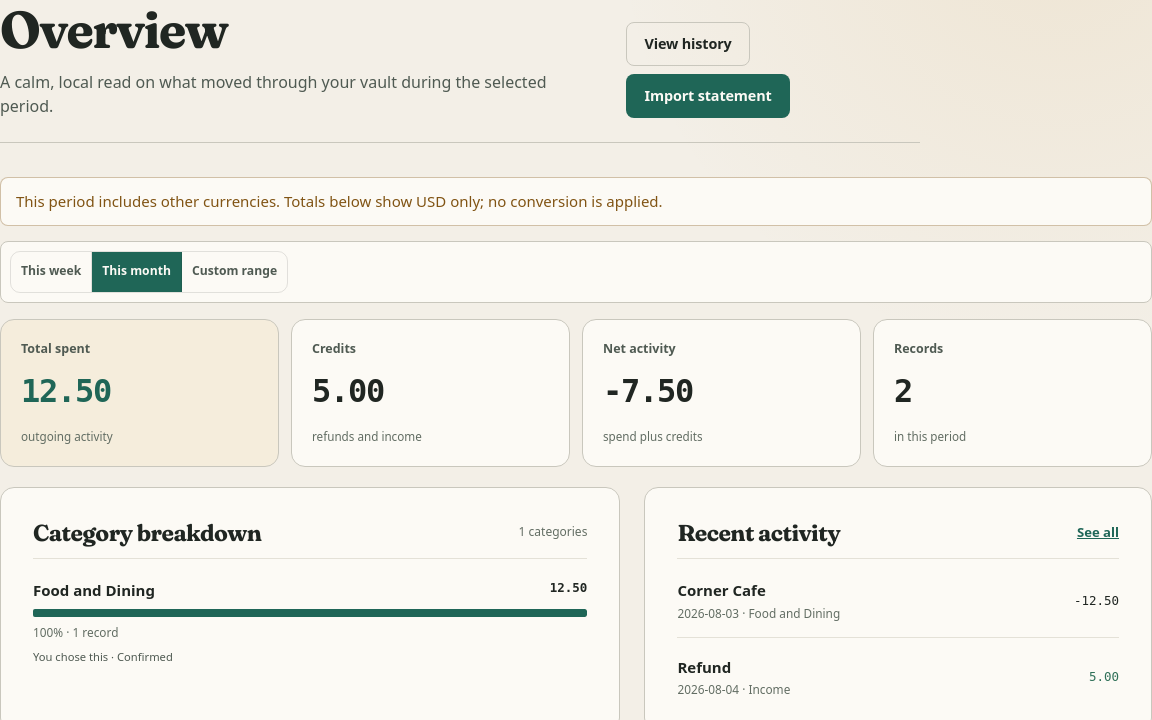
Scenario: US3 web dashboard › switches to a custom range and exposes an accessible empty state
Click the button "Custom range" at (234, 272), box [182, 252, 287, 292]
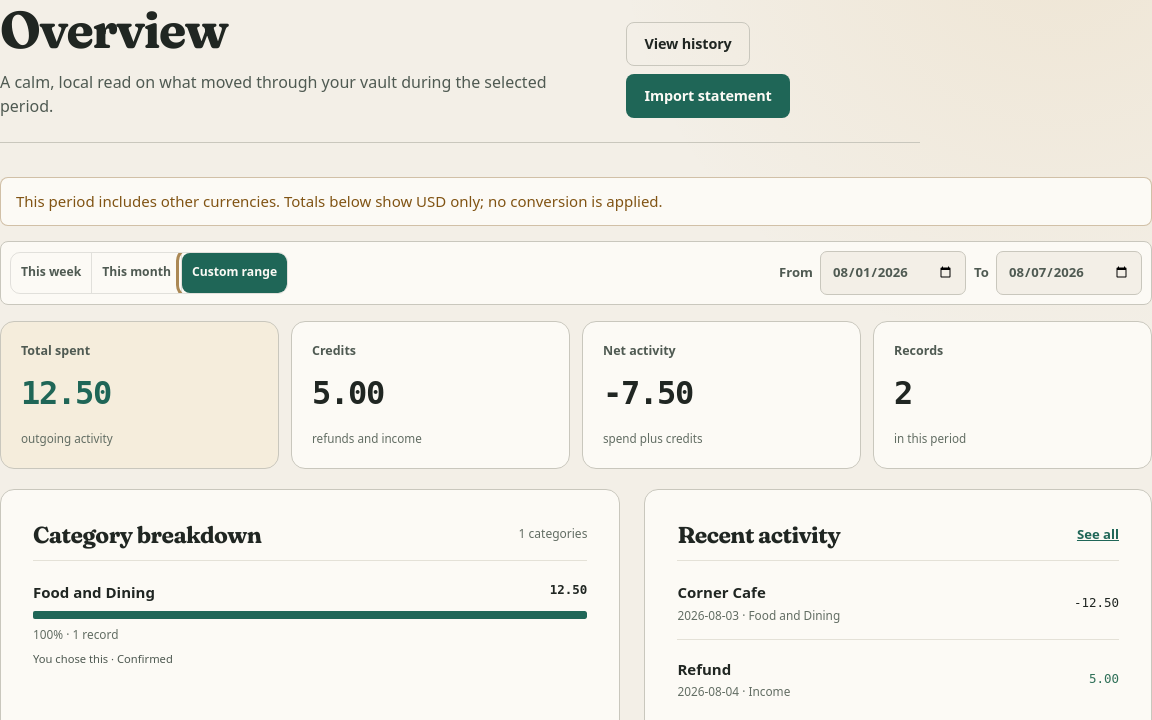
Type "2026-01-01" into the date field labelled "From" at (893, 273), box [820, 251, 966, 295]
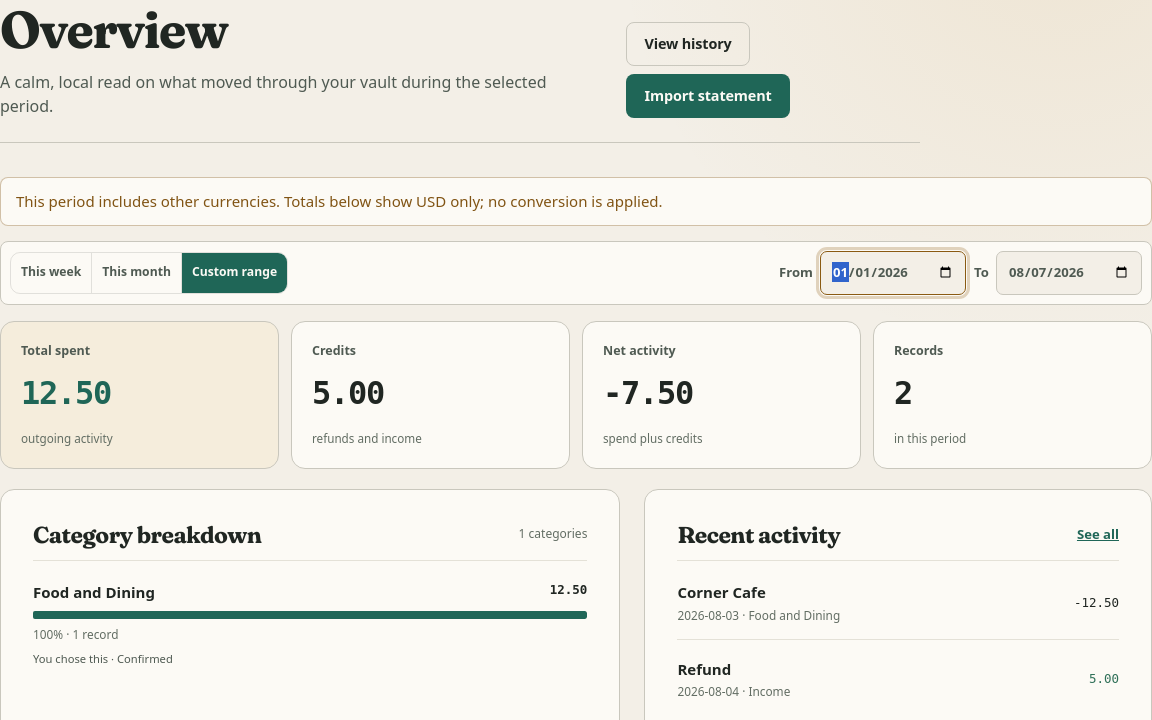
Type "2026-01-31" into the date field labelled "To" at (1069, 273), box [996, 251, 1142, 295]
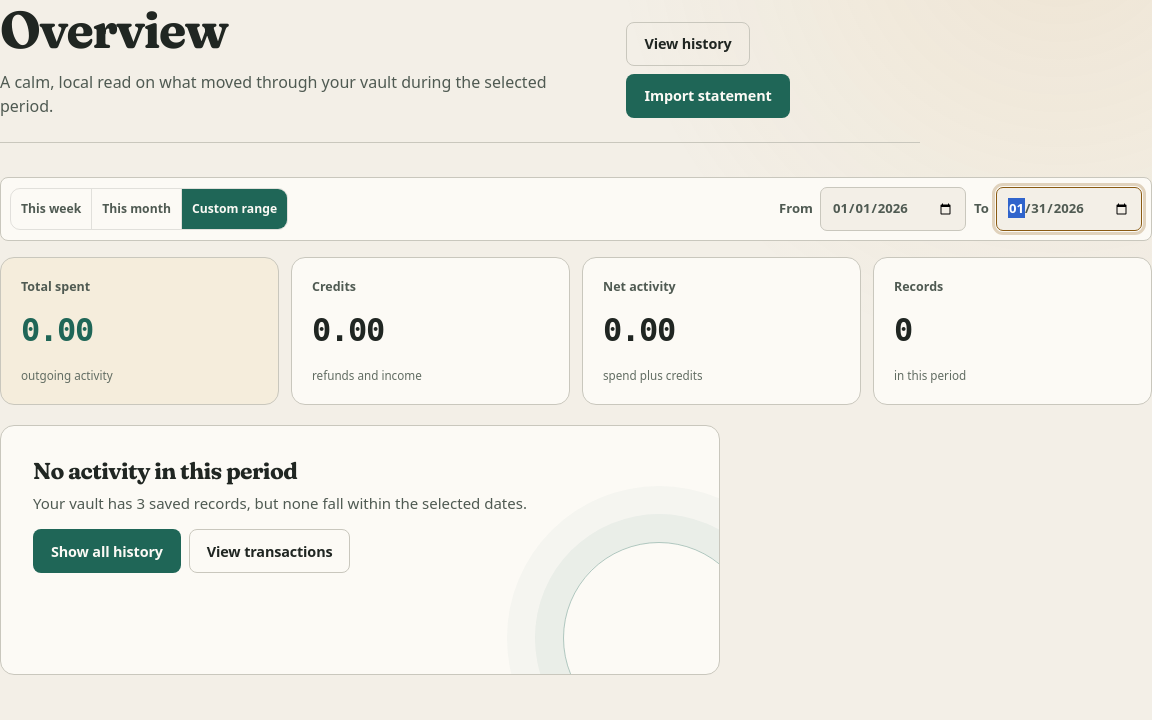
Expected: the heading "No activity in this period" is shown, [33, 456, 297, 485]
Expected: the message shows "Your vault has 3 saved records", [0, 425, 720, 675]
Expected: the button "Show all history" is shown
Click the button "Show all history" at (107, 551), box [33, 529, 181, 573]
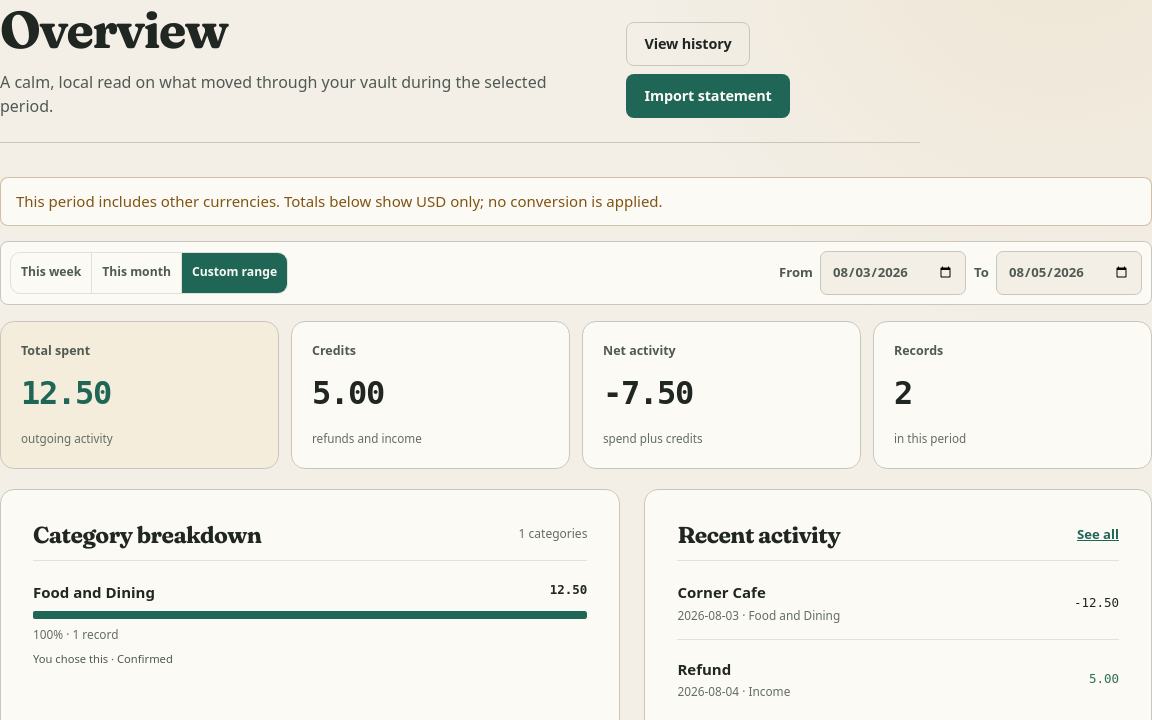
Expected: the text "Corner Cafe" is shown, [677, 582, 766, 602]
